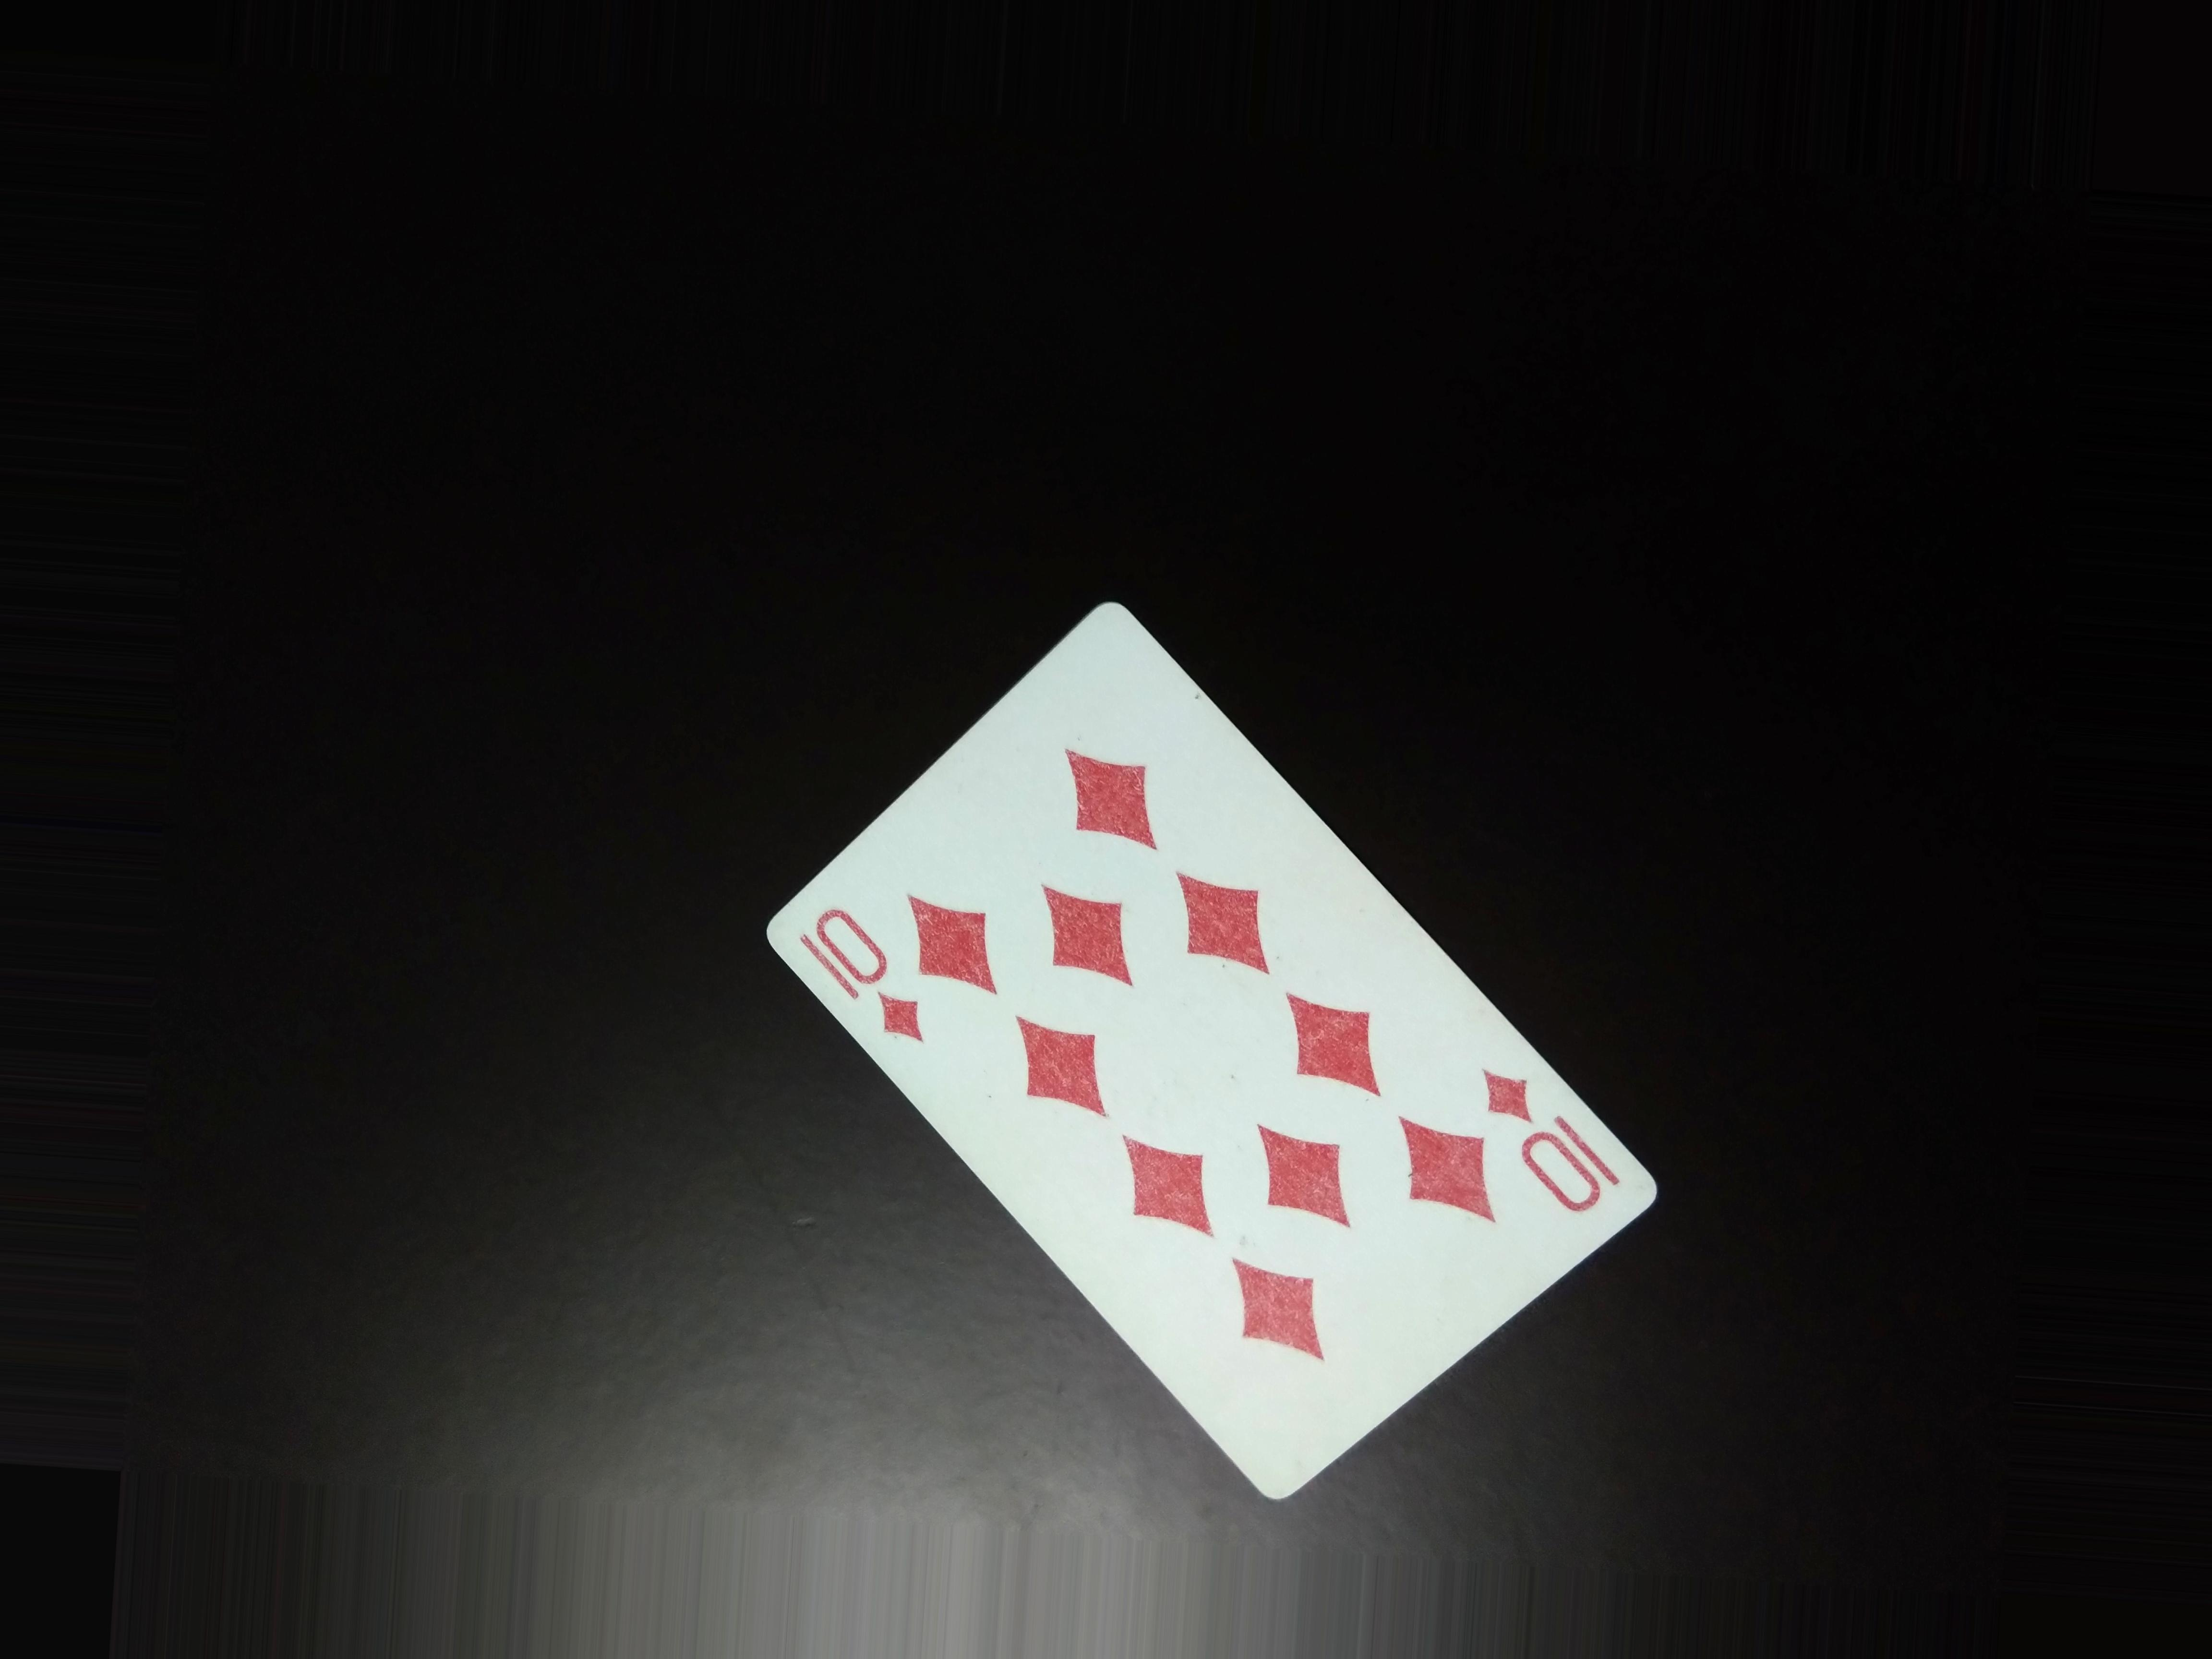10D: (1467, 1058, 1615, 1225)
